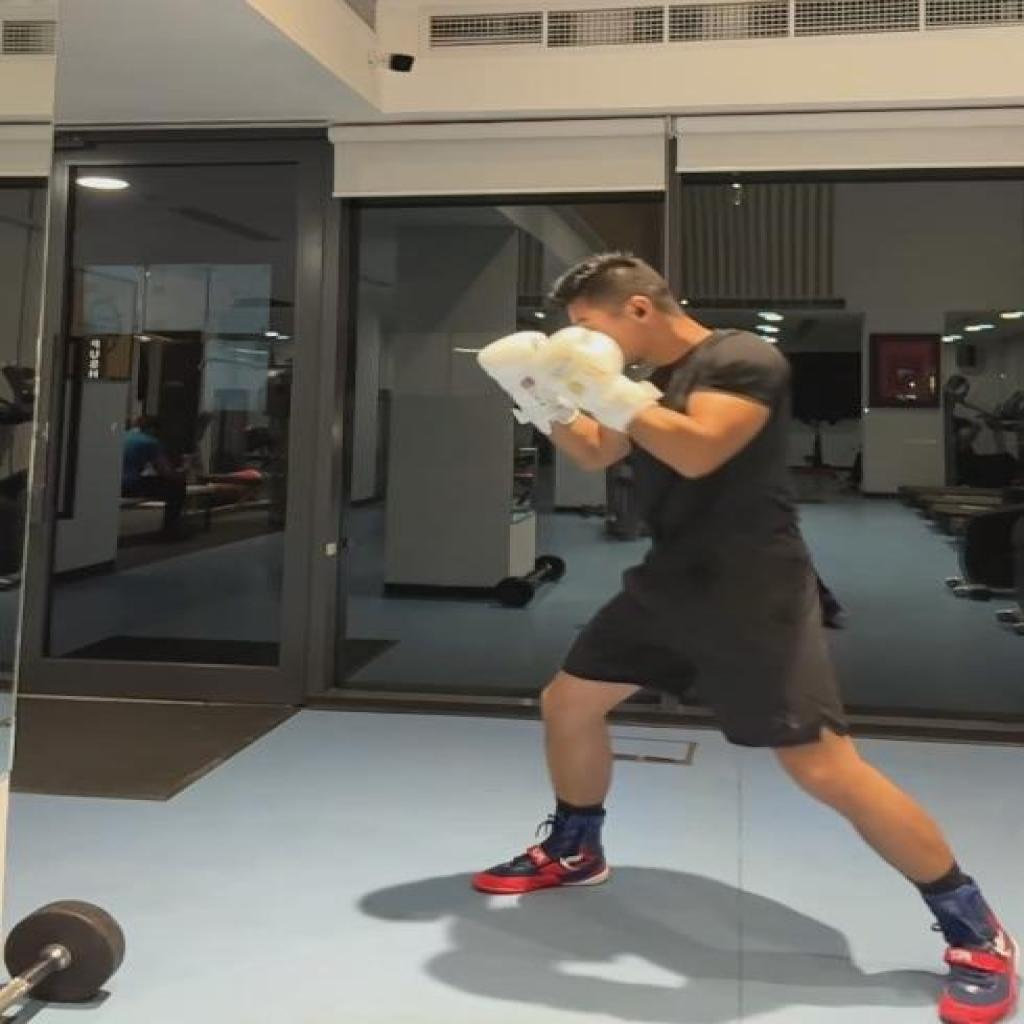no punch: (466, 246, 1024, 1024)
